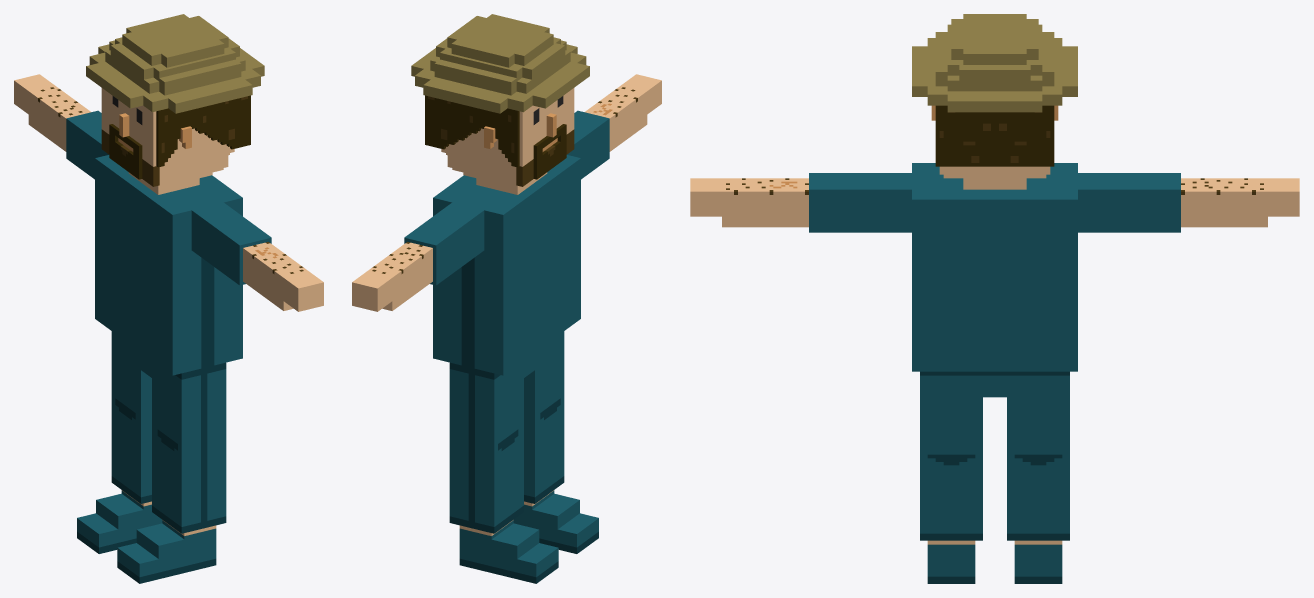
Rendered from male chars-1.obj.
3 views of the same model, side by side, from view 1: azimuth 30°, elevation 25°; view 2: azimuth 150°, elevation 25°; view 3: azimuth 270°, elevation 25° (orthographic). The views are drawn at different scales.
Bounding box in the file's own units: 4.2 × 15.2 × 15.4.
Materials: 1 (1 with a texture image).
